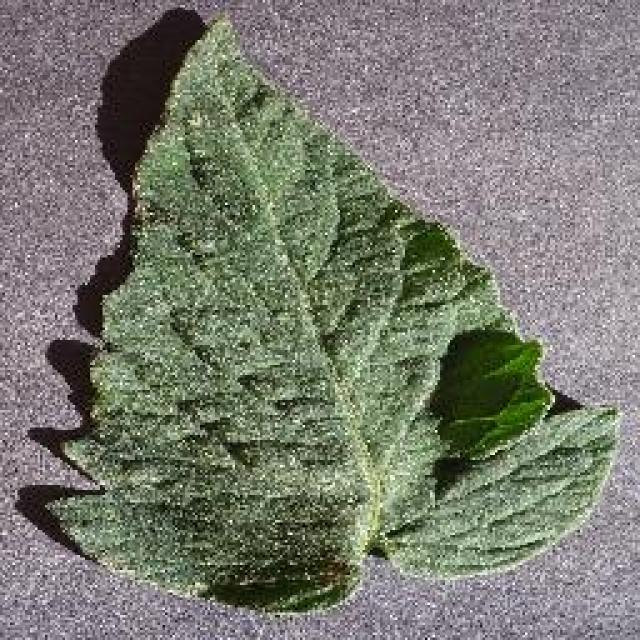Tomato_Healthy: (40, 15, 628, 605)
